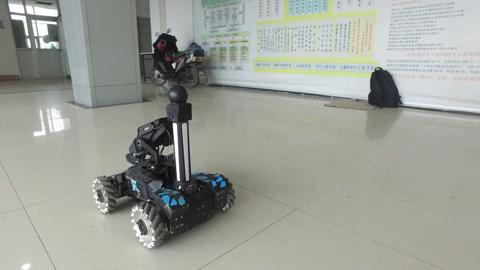bag: (355, 60, 409, 115)
chariot: (83, 80, 246, 252)
